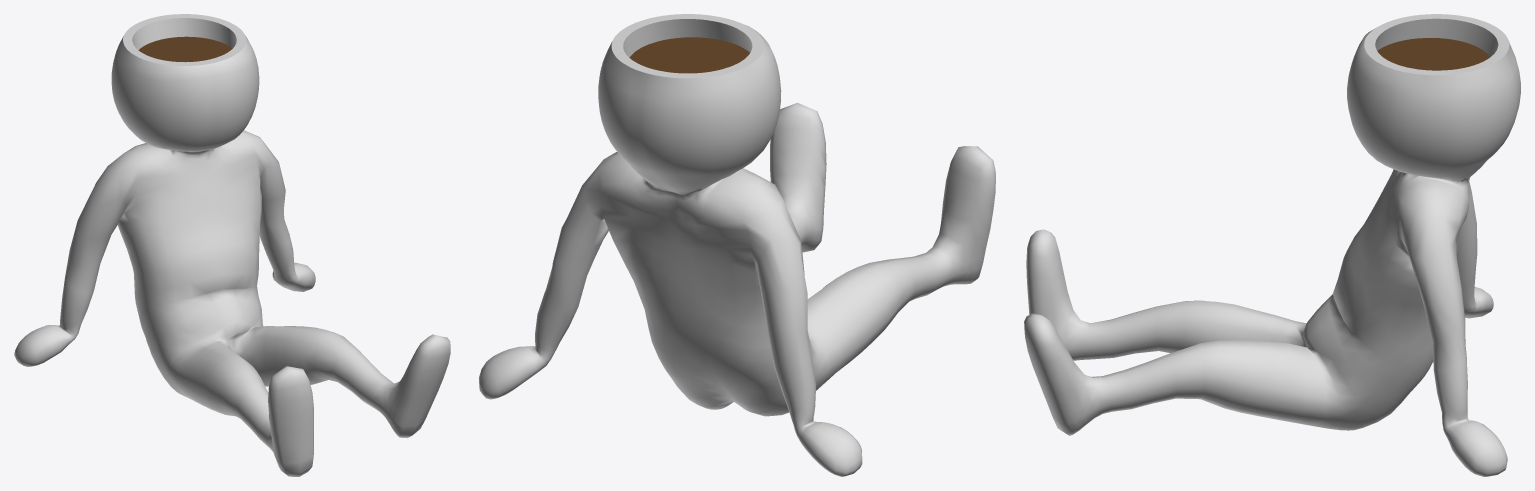
Rendered from Goober_Planter.fbx.
The picture shows the model from 3 angles, left to right: view 1: azimuth 30°, elevation 25°; view 2: azimuth 150°, elevation 25°; view 3: azimuth 270°, elevation 25°; orthographic projection. The views are drawn at different scales.
Visible parts, largest first — view 1: Goober_Planter; view 2: Goober_Planter; view 3: Goober_Planter.
Part boxes in pixels (<box>): Goober_Planter: <box>14,14,450,476</box>; Goober_Planter: <box>479,14,995,476</box>; Goober_Planter: <box>1024,14,1520,476</box>.
Size of the model in its own units: 2.76 by 2.82 by 3.37.
